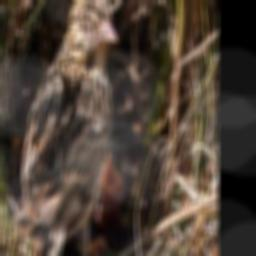Sparrow: (14, 0, 120, 256)
